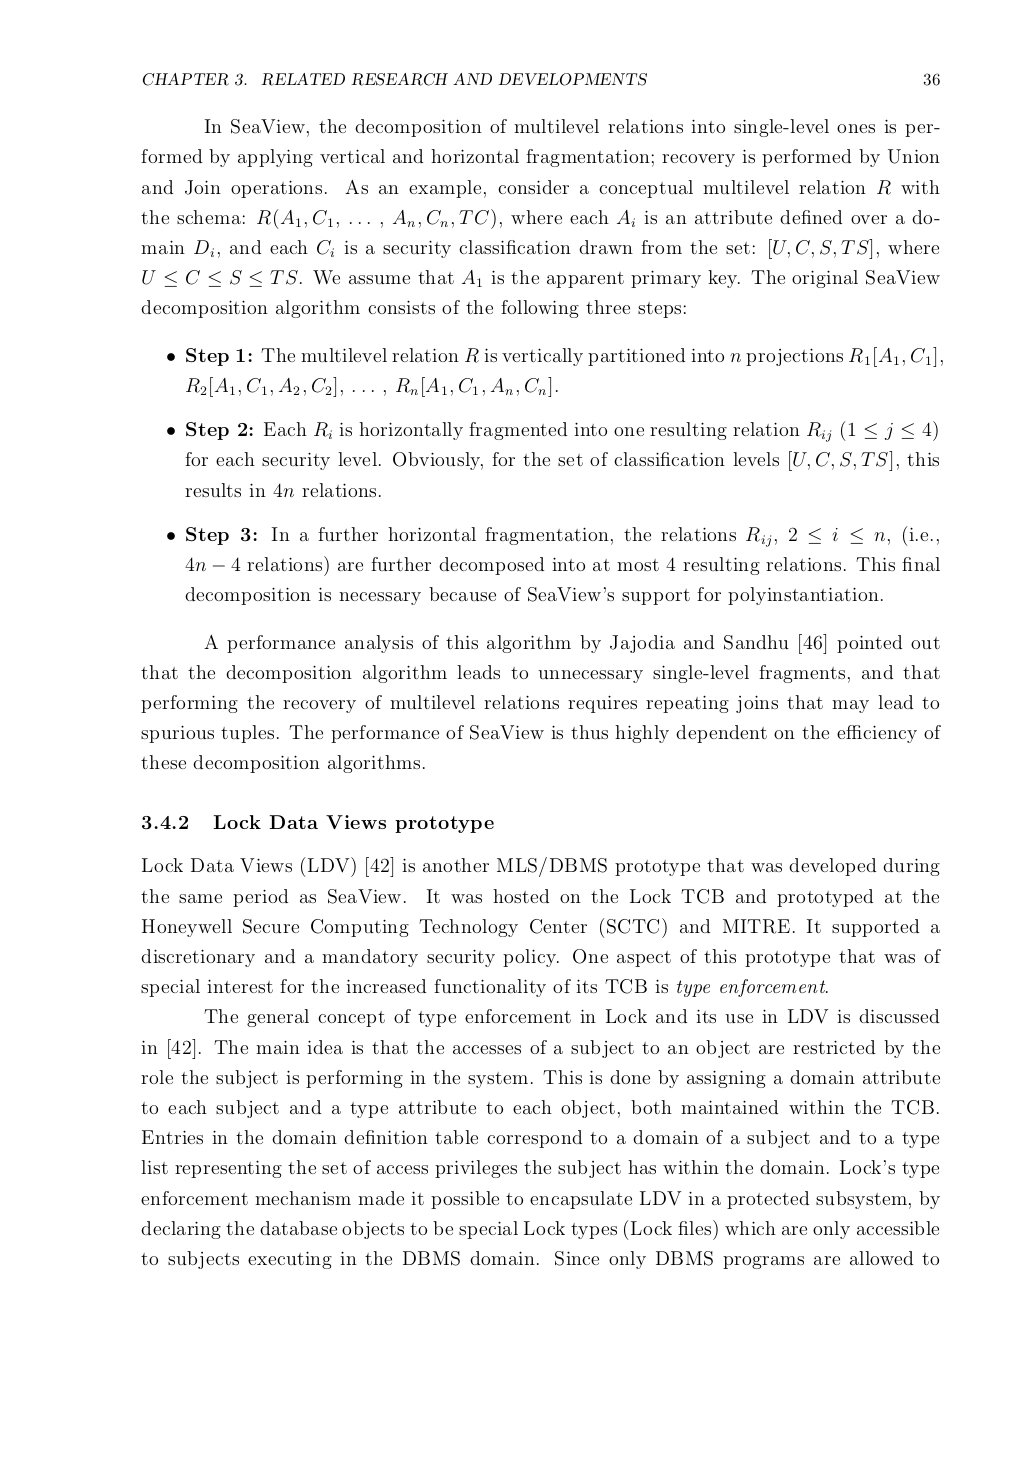formula: (187, 376, 557, 397)
